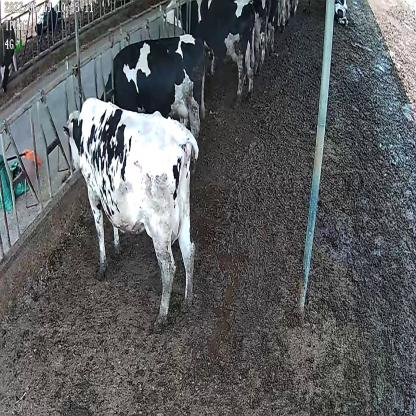cow: (61, 99, 200, 335), (89, 32, 210, 143), (162, 0, 258, 102), (333, 0, 350, 28)
